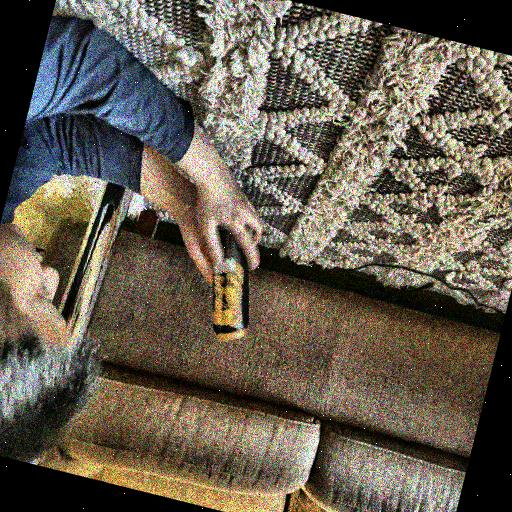karhu: (191, 226, 272, 348)
